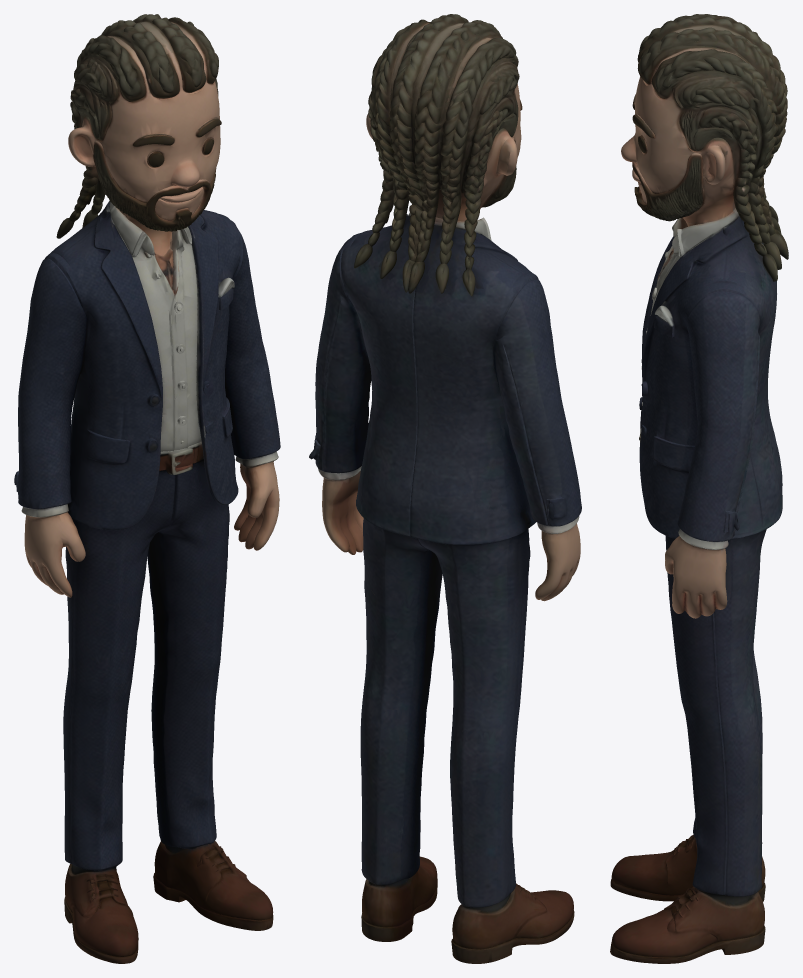
Rendered from joshua-avatar.glb.
3 views of the same model, side by side, from view 1: azimuth 30°, elevation 25°; view 2: azimuth 150°, elevation 25°; view 3: azimuth 270°, elevation 25° (orthographic).
Parts seen in each view (by area): view 1: Joshua_Hi3D; view 2: Joshua_Hi3D; view 3: Joshua_Hi3D.
Boxes of the visible parts, x1=… form: Joshua_Hi3D: x1=14, y1=14, x2=280, y2=963; Joshua_Hi3D: x1=309, y1=14, x2=581, y2=963; Joshua_Hi3D: x1=610, y1=14, x2=788, y2=963.
Size of the model in its own units: 1.21 by 4.05 by 0.7309.
Materials: 1 (1 with a texture image).
